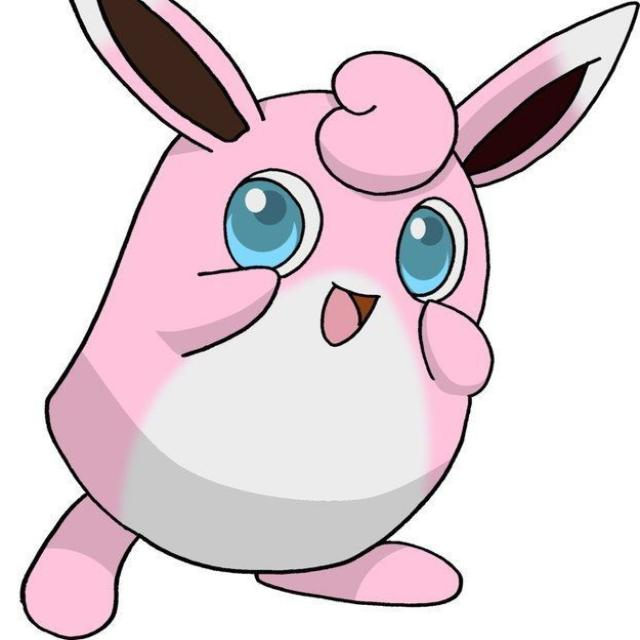Wigglytuff: (43, 49, 503, 621)
